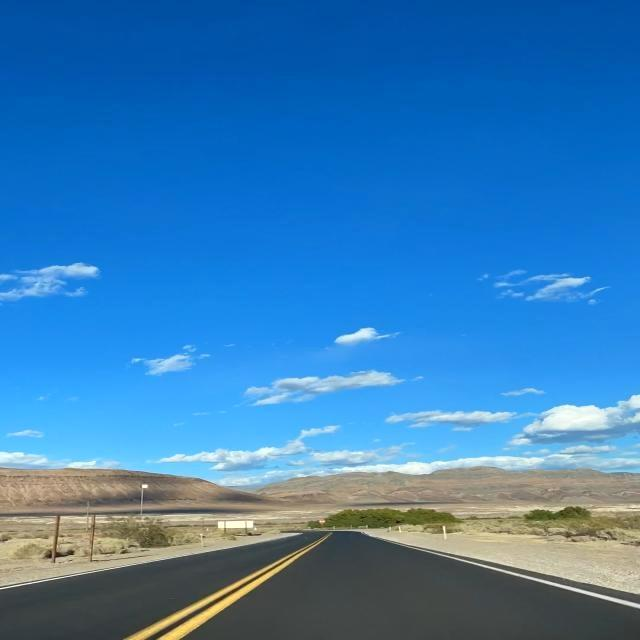lane: (124, 536, 329, 639)
road: (182, 532, 639, 639), (0, 532, 323, 639)
